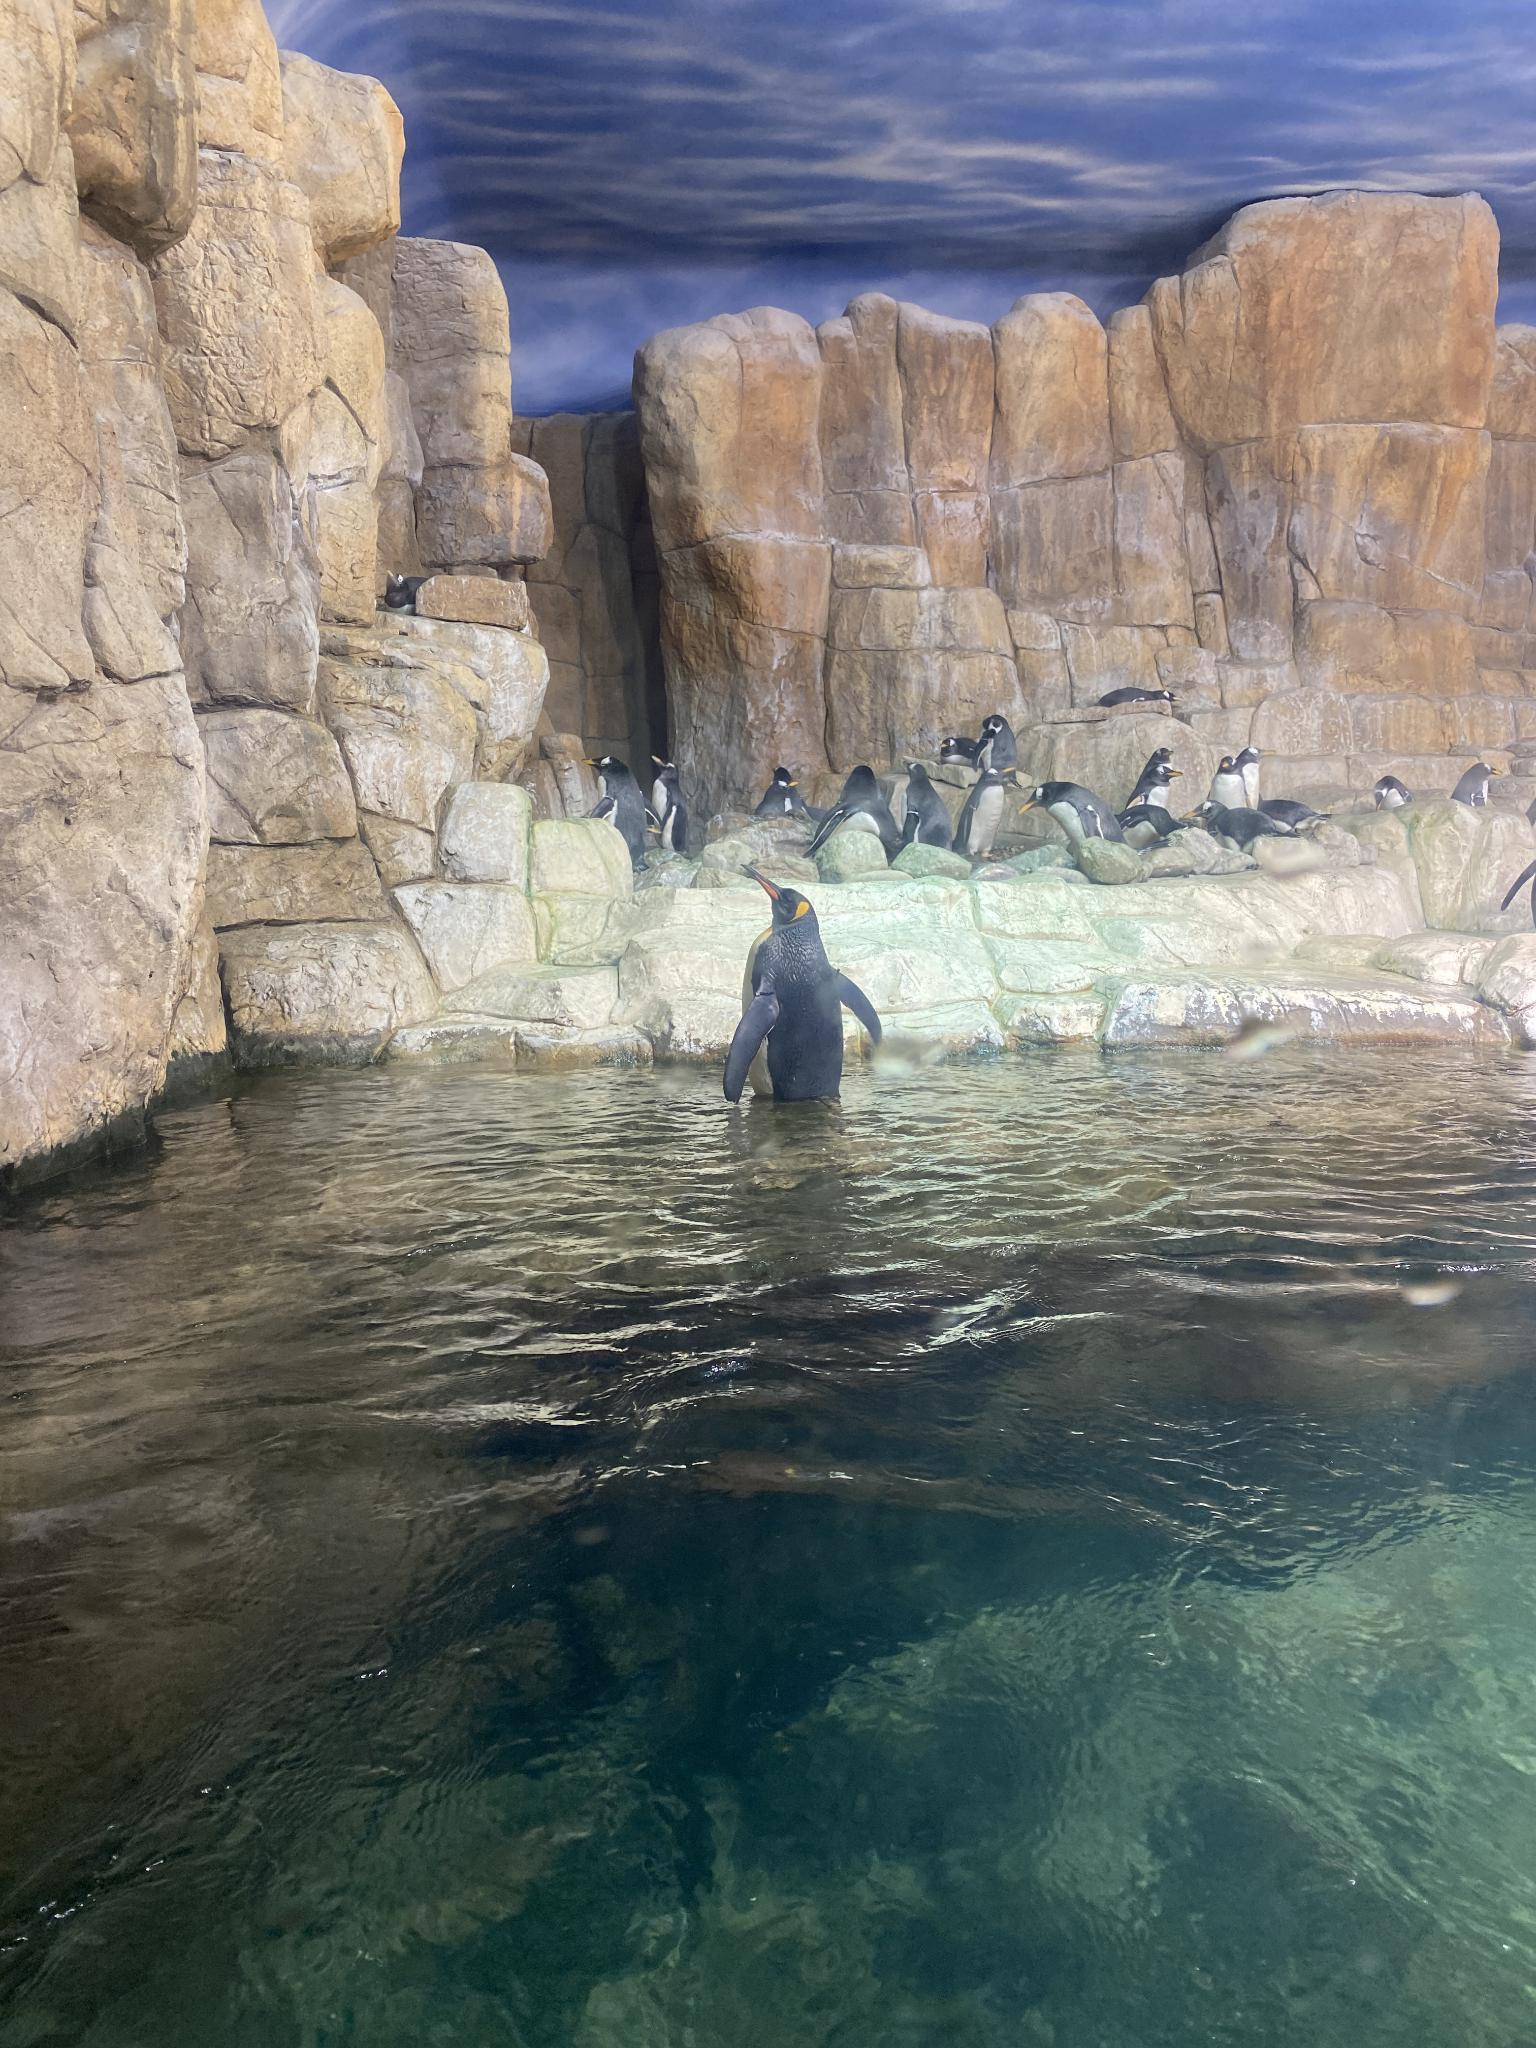penguin: (716, 871, 879, 1118), (1039, 782, 1123, 864), (589, 750, 644, 871), (894, 755, 949, 868), (1129, 750, 1183, 856), (970, 705, 1033, 792), (1199, 755, 1249, 832), (1450, 739, 1496, 822), (758, 760, 808, 834), (1238, 748, 1271, 819), (841, 763, 874, 819), (1371, 780, 1407, 824)
